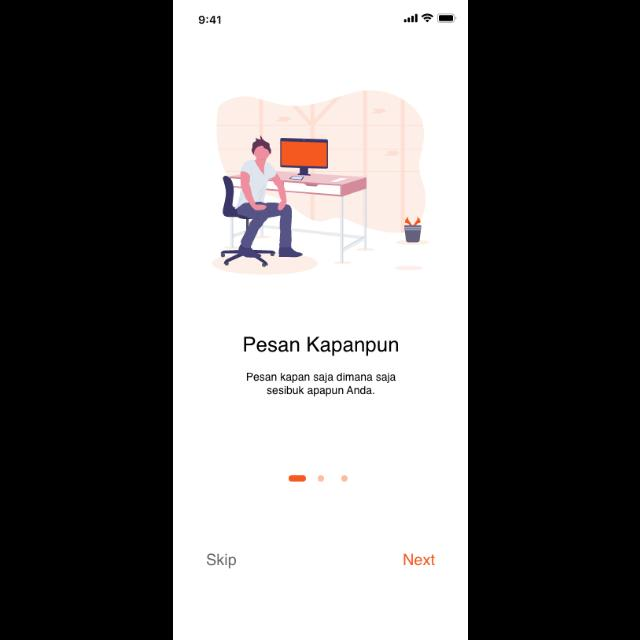image: (210, 90, 430, 276)
pageindicator: (288, 474, 348, 482)
text: (247, 372, 396, 398), (244, 337, 398, 357), (206, 553, 236, 569), (403, 554, 435, 566)
uppertaskbar: (198, 13, 456, 24)
